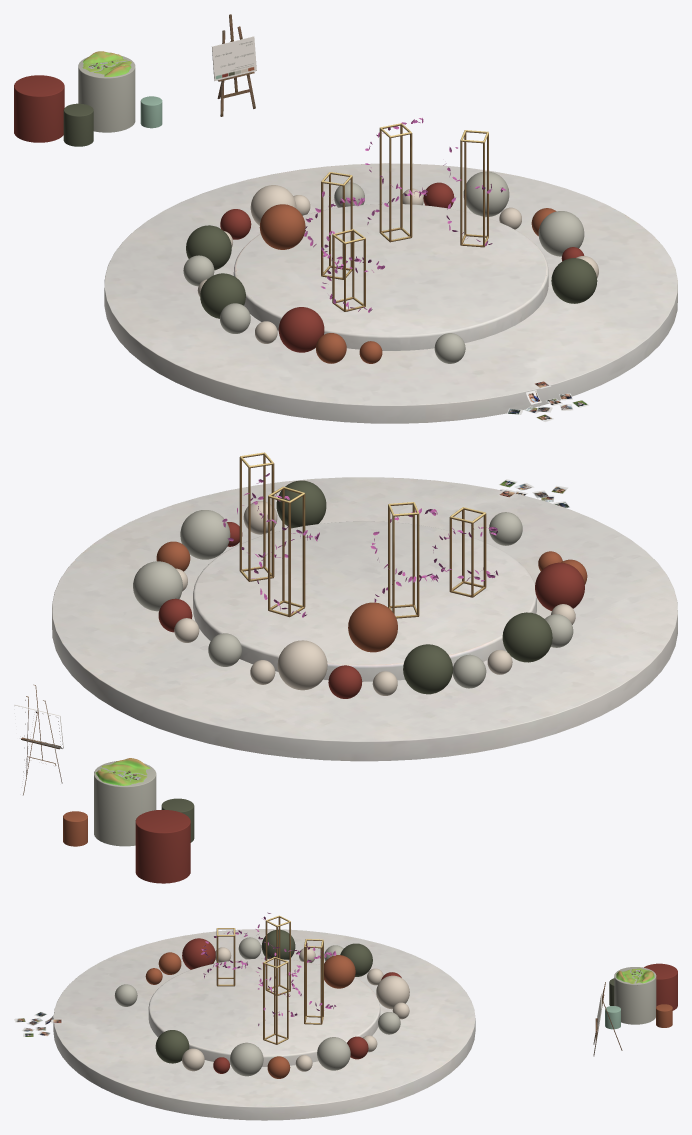
The model's file is Completed-transformed.glb.
The picture shows the model from 3 angles, top to bottom: view 1: azimuth 30°, elevation 25°; view 2: azimuth 150°, elevation 25°; view 3: azimuth 270°, elevation 25°; orthographic projection. The views are drawn at different scales.
Visible parts, largest first — view 1: Mainstage.001, Drokino.001, SphereGreen.001, Golden.001, SphereDarkGreen.001, SphereRed.001, SphereOrange.001, SphereNejno.001, Malbert.001, Flowers1.001, Photo1.001; view 2: Mainstage.001, Drokino.001, SphereGreen.001, Golden.001, SphereDarkGreen.001, SphereNejno.001, SphereRed.001, SphereOrange.001, Flowers1.001, Photo1.001; view 3: Mainstage.001, Drokino.001, SphereGreen.001, Golden.001, SphereNejno.001, SphereDarkGreen.001, SphereOrange.001, SphereRed.001, Flowers1.001, Photo1.001.
Boxes of the visible parts, box(x1,y1,x2,y2) form: Mainstage.001: box(104, 14, 677, 423); Drokino.001: box(14, 51, 162, 146); SphereGreen.001: box(183, 171, 584, 363); Golden.001: box(321, 123, 488, 311); SphereDarkGreen.001: box(186, 225, 597, 318); SphereRed.001: box(220, 182, 584, 352); SphereOrange.001: box(259, 204, 556, 363); SphereNejno.001: box(197, 185, 598, 343); Malbert.001: box(212, 36, 256, 80); Flowers1.001: box(304, 118, 505, 312); Photo1.001: box(507, 381, 588, 421); Mainstage.001: box(21, 477, 677, 795); Drokino.001: box(63, 758, 194, 883); SphereGreen.001: box(133, 510, 573, 688); Golden.001: box(239, 452, 486, 618); SphereDarkGreen.001: box(276, 480, 552, 694); SphereNejno.001: box(174, 501, 575, 695); SphereRed.001: box(158, 522, 584, 698); SphereOrange.001: box(156, 541, 587, 652); Flowers1.001: box(222, 473, 498, 617); Photo1.001: box(499, 479, 569, 507); Mainstage.001: box(53, 929, 622, 1120); Drokino.001: box(605, 963, 677, 1029); SphereGreen.001: box(114, 937, 400, 1076); Golden.001: box(216, 915, 323, 1044); SphereNejno.001: box(182, 947, 409, 1071); SphereDarkGreen.001: box(155, 929, 372, 1063); SphereOrange.001: box(145, 952, 355, 1078); SphereRed.001: box(182, 938, 401, 1073); Flowers1.001: box(201, 912, 336, 1025); Photo1.001: box(14, 1012, 62, 1036).
Size of what is drawn, in the model's own units: 10 by 2.98 by 15.73.
11 materials, 11 textured.
